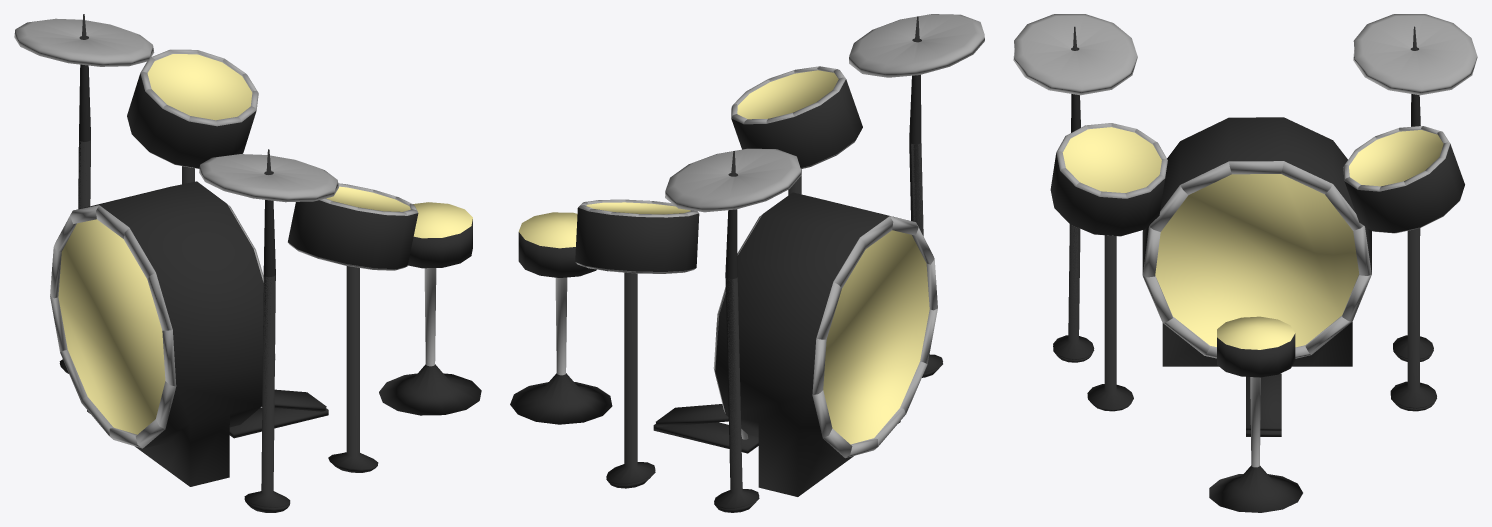
Rendered from batterie.fbx.
3 views of the same model, side by side, from view 1: azimuth 30°, elevation 25°; view 2: azimuth 150°, elevation 25°; view 3: azimuth 270°, elevation 25° (orthographic). The views are drawn at different scales.
Parts seen in each view (by area): view 1: Cylinder.001; view 2: Cylinder.001; view 3: Cylinder.001.
Part boxes in pixels (left/top/right/bottom): Cylinder.001: left=14, top=14, right=481, bottom=512; Cylinder.001: left=510, top=14, right=984, bottom=512; Cylinder.001: left=1013, top=14, right=1477, bottom=512.
Size of the model in its own units: 456 by 454 by 546.
